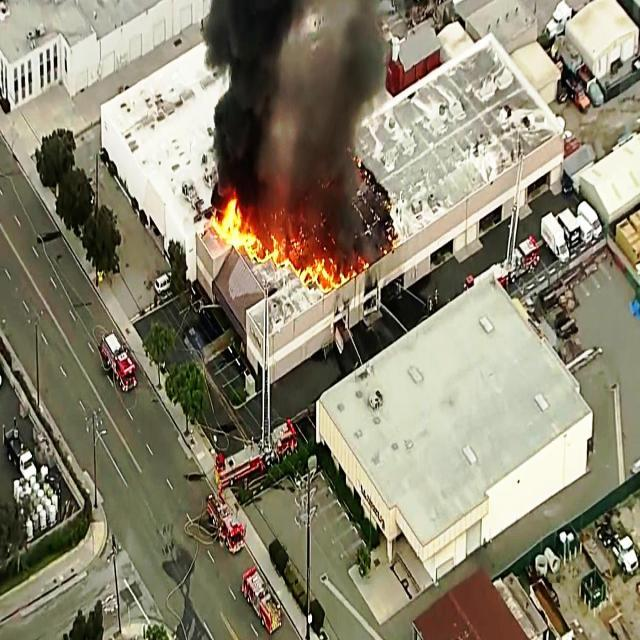Fire: (214, 190, 256, 246)
Smoke: (208, 8, 264, 177)
